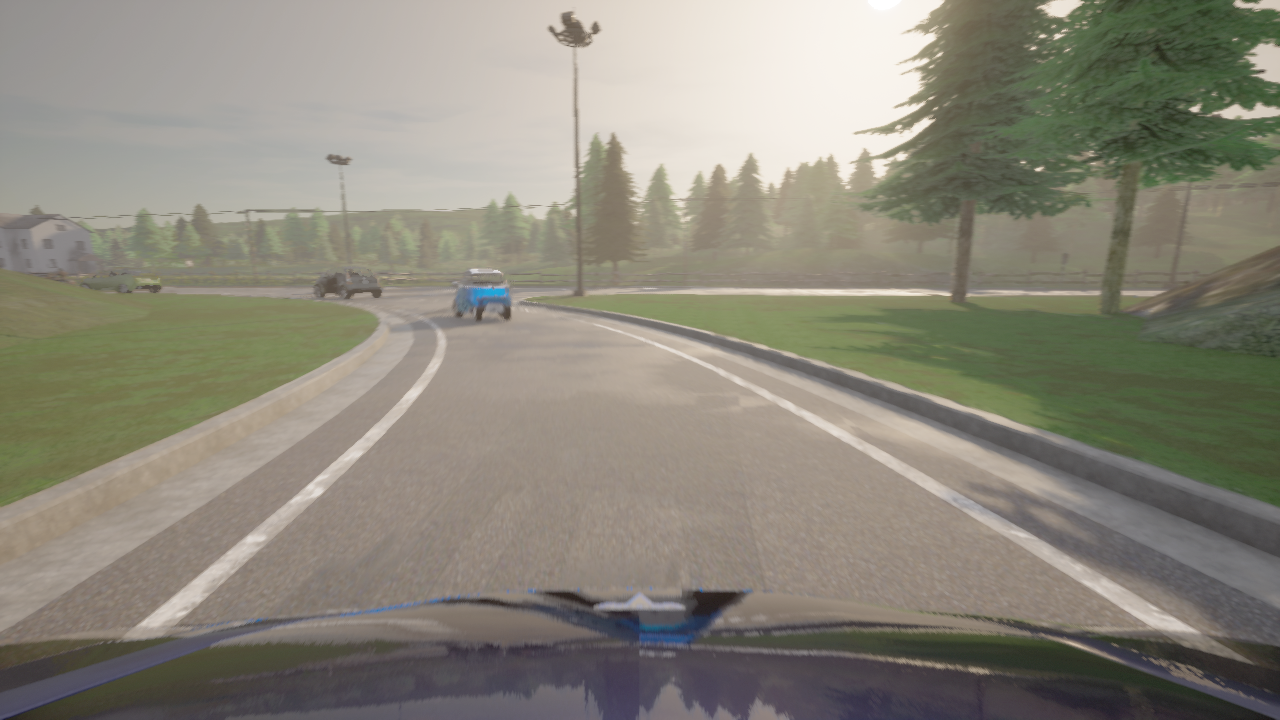cyclist: (0, 588, 1279, 719), (453, 268, 512, 321), (314, 266, 382, 299), (80, 269, 162, 293), (0, 260, 51, 279), (52, 275, 75, 285)
